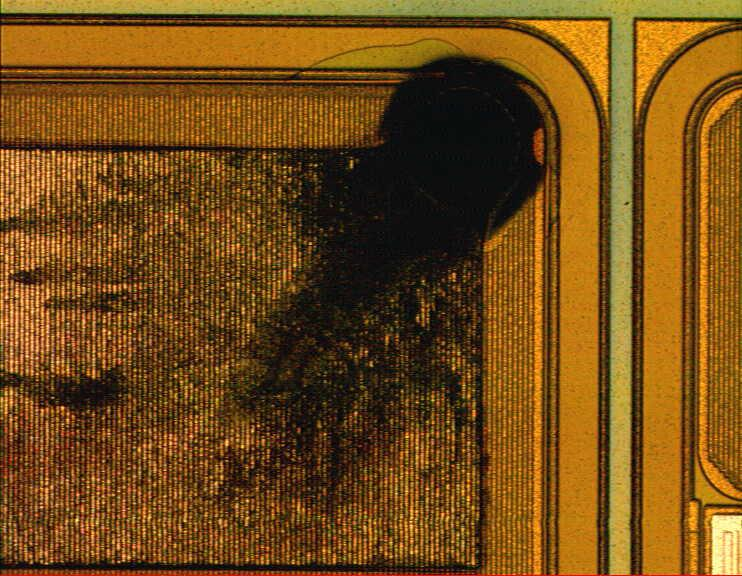SEZ BURNT: (1, 35, 566, 576)
